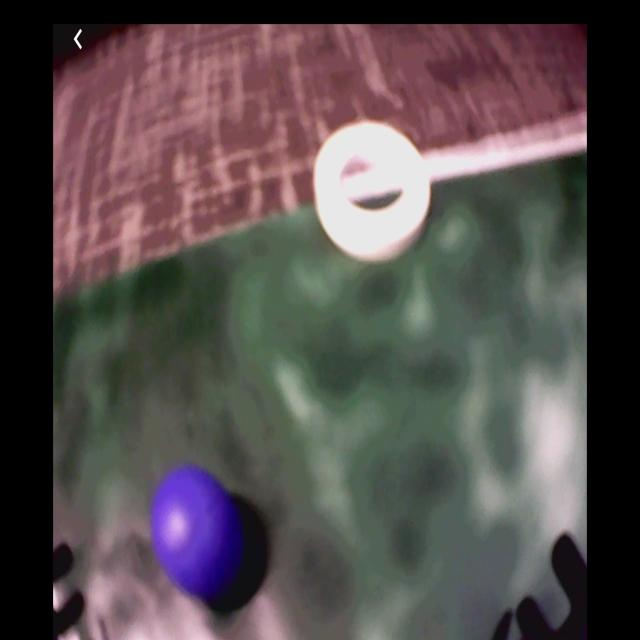ball: (148, 465, 244, 602)
